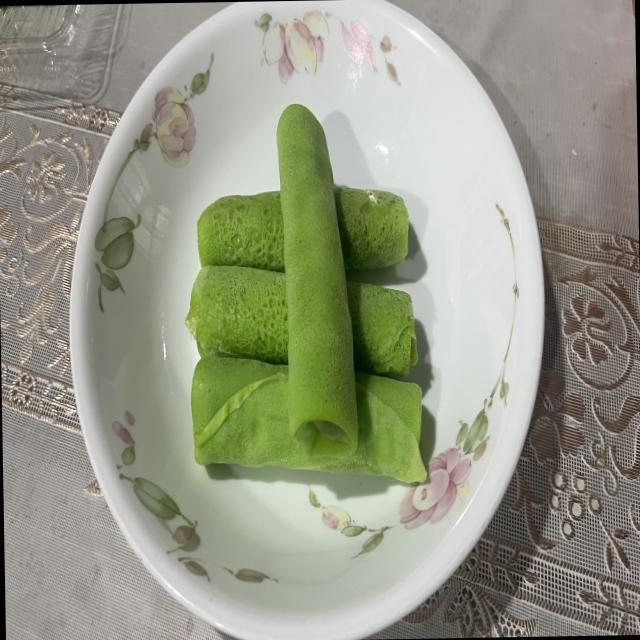Kuih-Ketayap: (191, 355, 426, 483), (277, 105, 357, 456), (277, 105, 357, 456), (185, 264, 288, 363), (197, 192, 284, 272), (346, 282, 417, 377), (334, 184, 408, 268)
